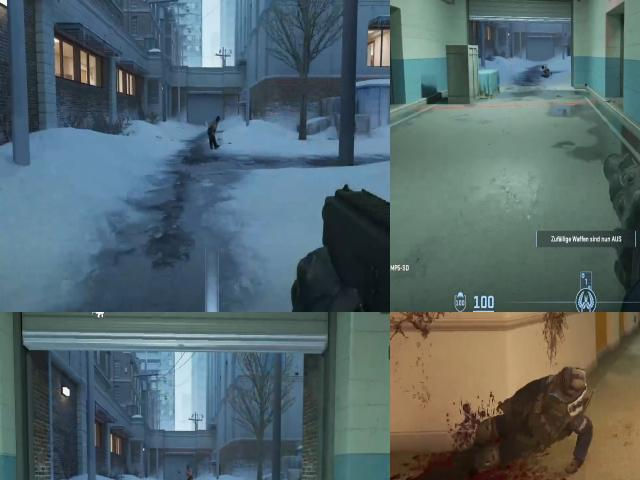Dead: (454, 362, 598, 478), (208, 113, 222, 143), (540, 62, 554, 78)
T: (185, 465, 194, 480)
T-Head: (187, 467, 192, 474)
